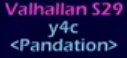2: (101, 1, 111, 16)
4: (58, 20, 70, 34)
9: (112, 2, 123, 16)
<: (10, 39, 19, 50)
>: (108, 39, 117, 51)
P: (19, 38, 30, 51)
S: (91, 1, 101, 16)
V: (3, 1, 18, 16)
a: (63, 40, 74, 52), (65, 4, 75, 16), (30, 40, 40, 52), (44, 4, 54, 15), (18, 5, 27, 16)
c: (70, 23, 79, 34)
d: (52, 38, 63, 51)
h: (33, 2, 44, 16)
i: (81, 37, 85, 52)
l: (55, 1, 60, 16), (60, 1, 65, 16), (28, 2, 33, 16)
n: (75, 4, 87, 16), (97, 40, 108, 52), (40, 41, 52, 51)
o: (85, 41, 96, 52)
t: (73, 39, 81, 52)
y: (47, 23, 58, 38)
